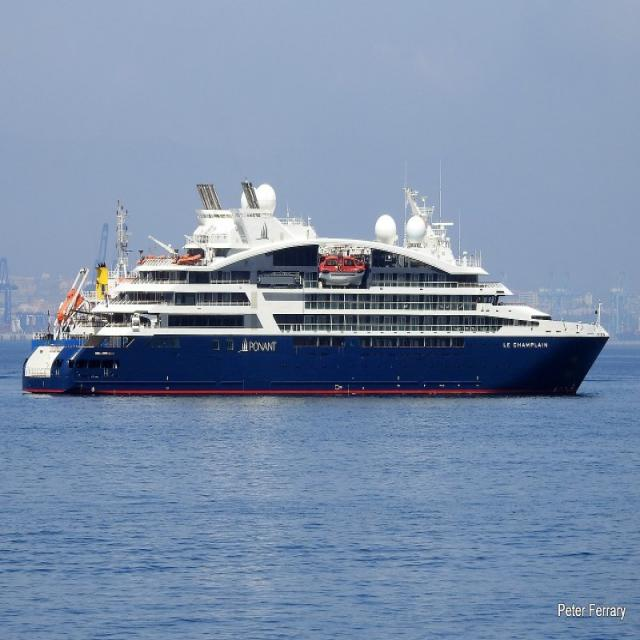cruises: (19, 176, 614, 406)
